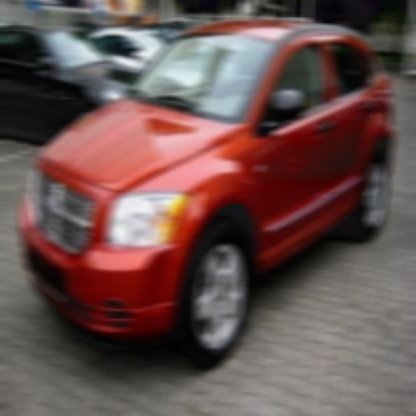Vehicle: (21, 21, 394, 372)
